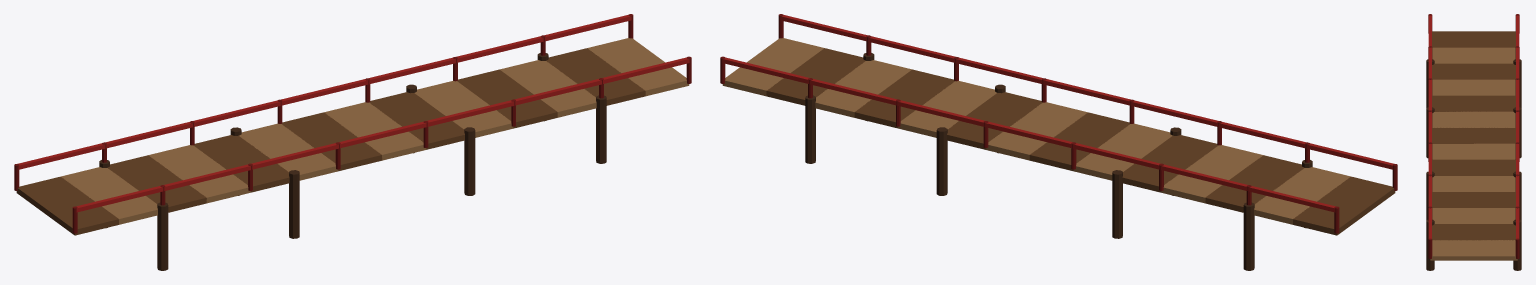
File: SM_GZ_bridge.fbx
3 renders of one model, left to right at view 1: azimuth 30°, elevation 25°; view 2: azimuth 150°, elevation 25°; view 3: azimuth 270°, elevation 25°, orthographic. The views are drawn at different scales.
Parts seen in each view (by area): view 1: SM_GZ_bridge; view 2: SM_GZ_bridge; view 3: SM_GZ_bridge.
Part boxes in pixels (<box>): SM_GZ_bridge: <box>14,14,691,270</box>; SM_GZ_bridge: <box>720,14,1397,270</box>; SM_GZ_bridge: <box>1426,14,1521,270</box>.
Bounding box in the file's own units: 2820 × 360 × 504.
